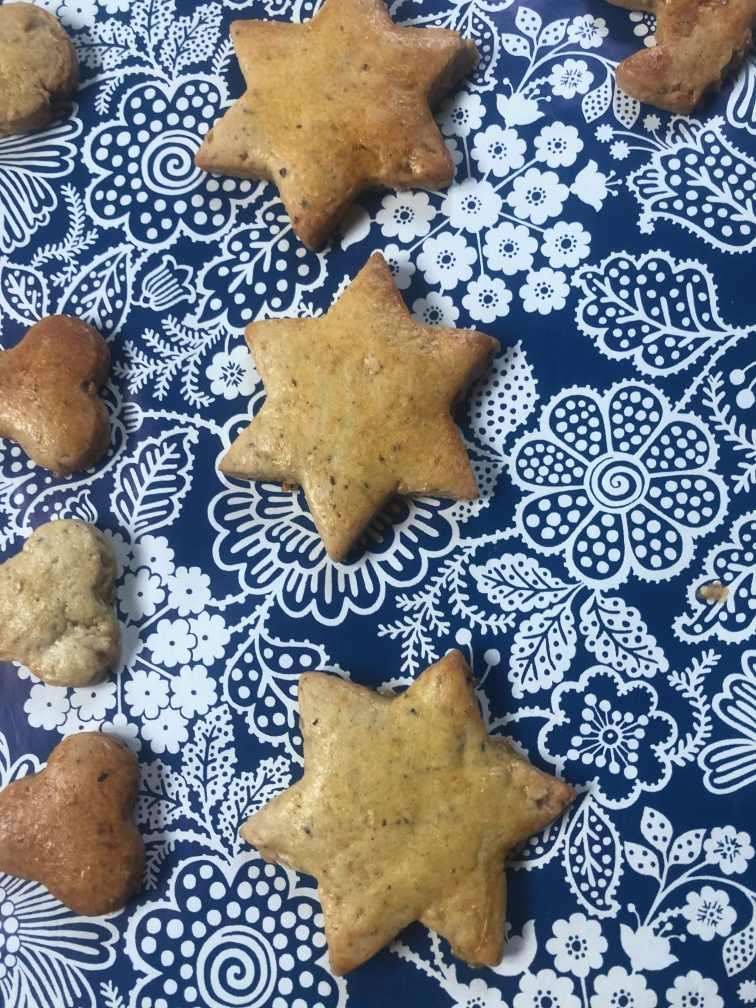flake: (1, 728, 139, 917), (1, 516, 123, 685), (1, 316, 110, 473)
star: (240, 650, 568, 978), (219, 252, 499, 562), (194, 1, 465, 247)
